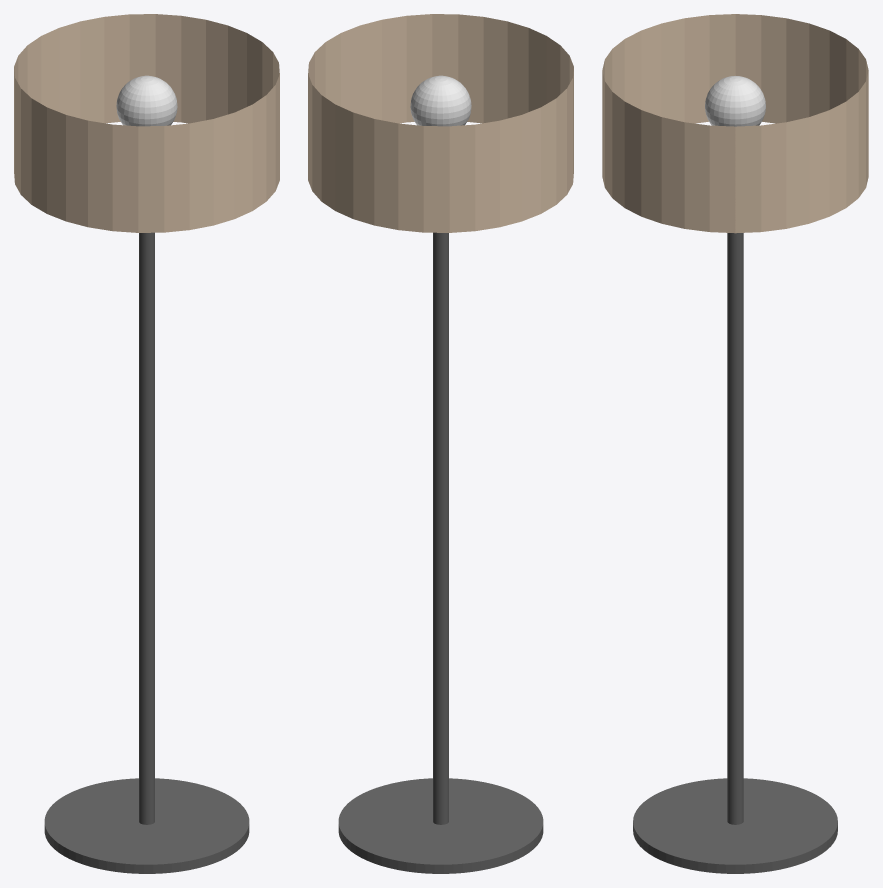
The model's file is 3dmodel6489c7d02eae9lamp.glb.
The picture shows the model from 3 angles, left to right: view 1: azimuth 30°, elevation 25°; view 2: azimuth 150°, elevation 25°; view 3: azimuth 270°, elevation 25°; orthographic projection.
Parts seen in each view (by area): view 1: Cylinder, Circle, Sphere; view 2: Cylinder, Circle, Sphere; view 3: Cylinder, Circle, Sphere.
Part boxes in pixels (bbox=[...]): Cylinder: bbox=[14, 14, 279, 232]; Circle: bbox=[44, 232, 249, 873]; Sphere: bbox=[116, 75, 177, 126]; Cylinder: bbox=[308, 14, 573, 232]; Circle: bbox=[338, 232, 543, 873]; Sphere: bbox=[410, 75, 471, 126]; Cylinder: bbox=[602, 14, 868, 233]; Circle: bbox=[633, 233, 837, 873]; Sphere: bbox=[705, 76, 765, 126].
Size of the model in its own units: 2.6 by 8.19 by 2.6.
